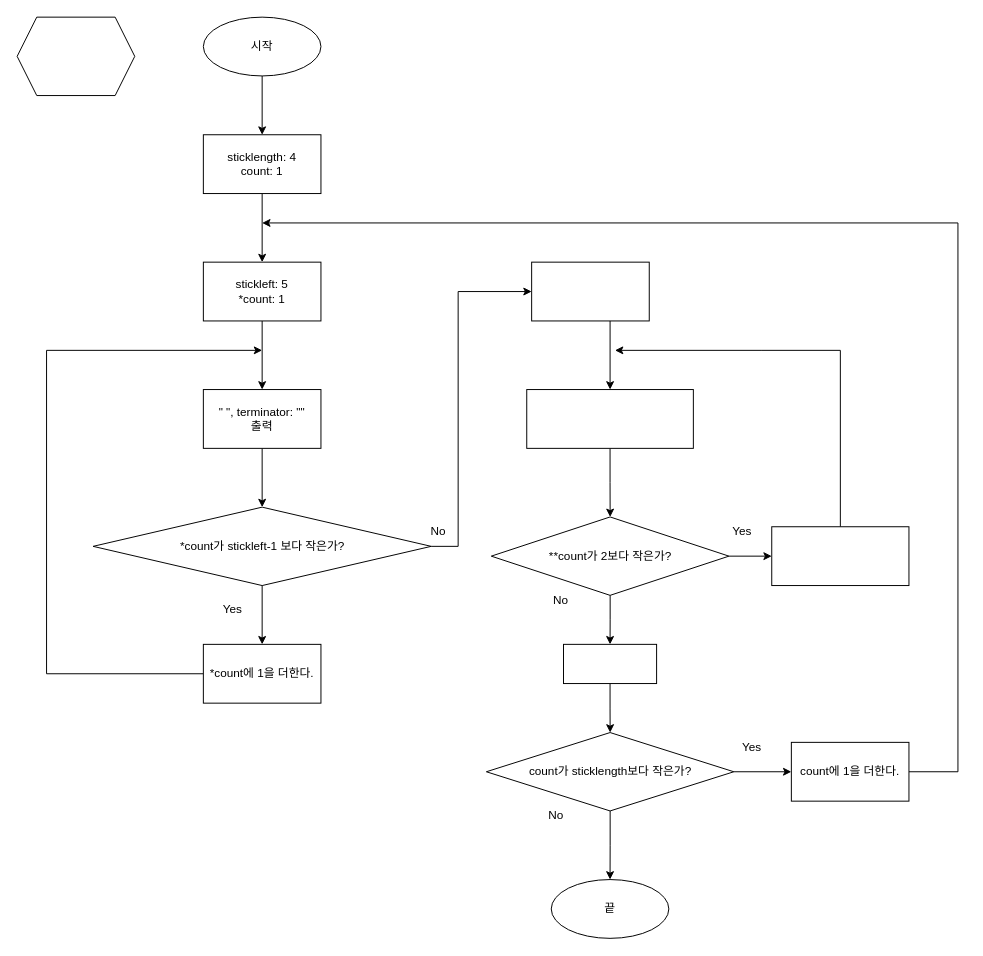
This 983x956 diagram has some shape labels left out. Each missing label, with the centre of its shape:
"\n" 출력: (x=610, y=663)
**count: 1: (x=590, y=291)
**count에 1을 더한다.: (x=840, y=556)
ice = * stick = |: (x=75, y=56)
stick, terminator: "" 출력: (x=609, y=418)
